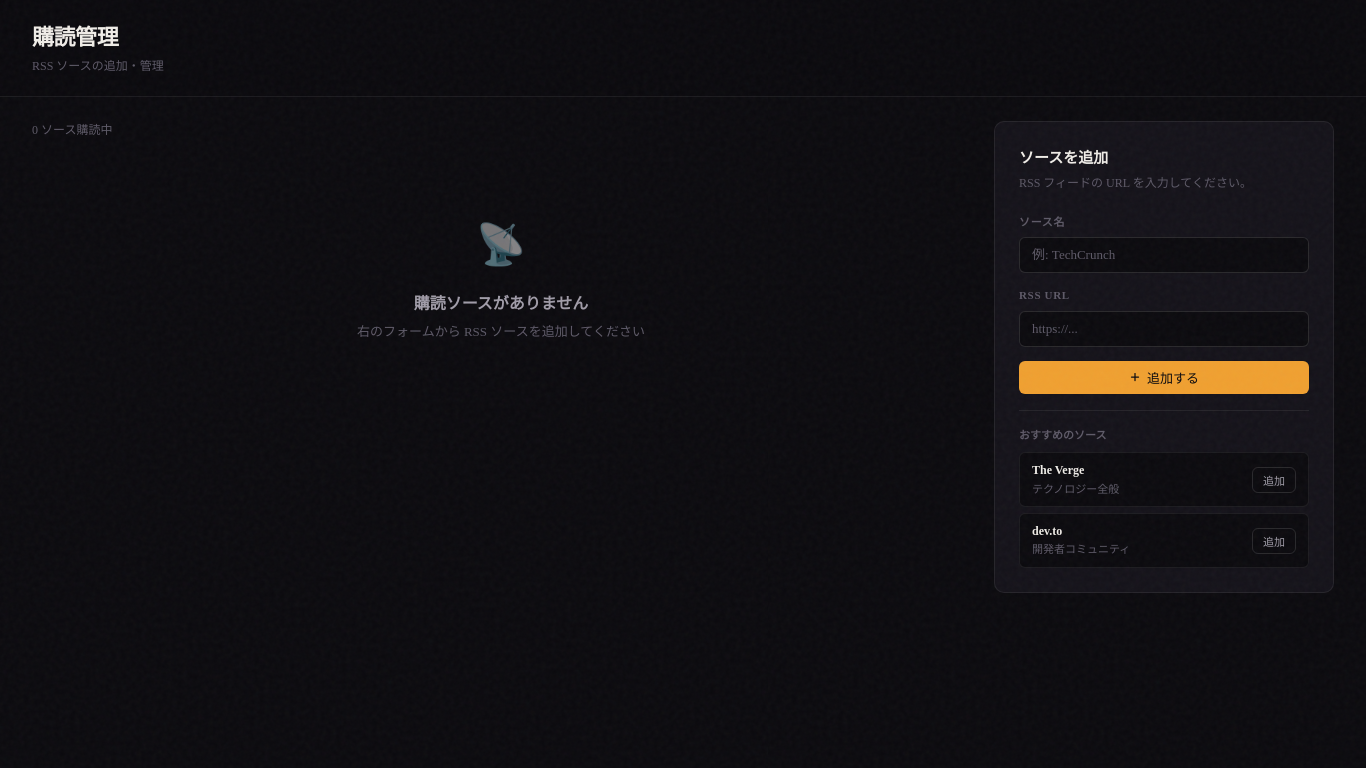
it: AddSubscriptionForm — client-side validation › Given URL not starting with http(s)://, shows inline error and does NOT submit
The width and height of the screenshot is (1366, 768).
Type "ftp://invalid.com" into the field labelled "RSS URL".
click(1164, 329); type("ftp://invalid.com")  # box [1019,311,1309,347]
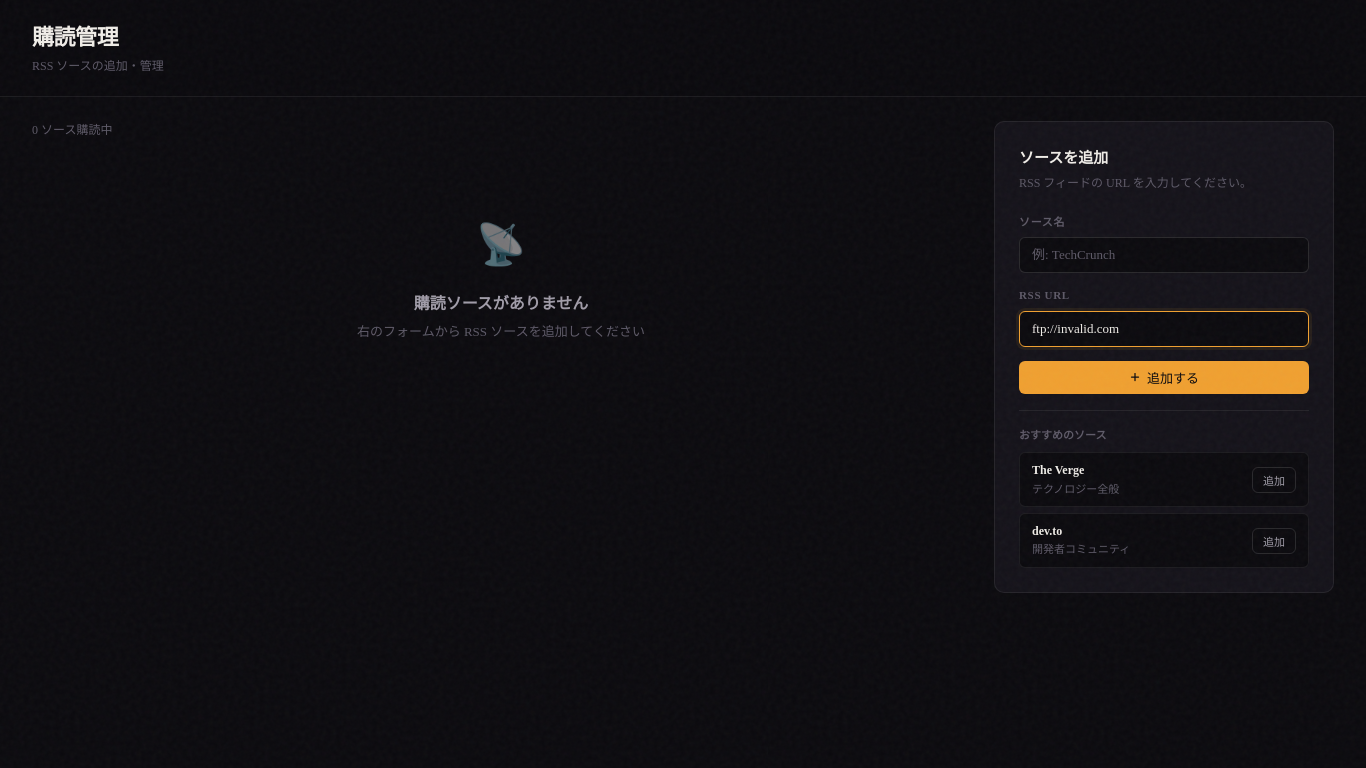
Click the button "追加する".
click(1164, 377)  # box [1019,361,1309,394]
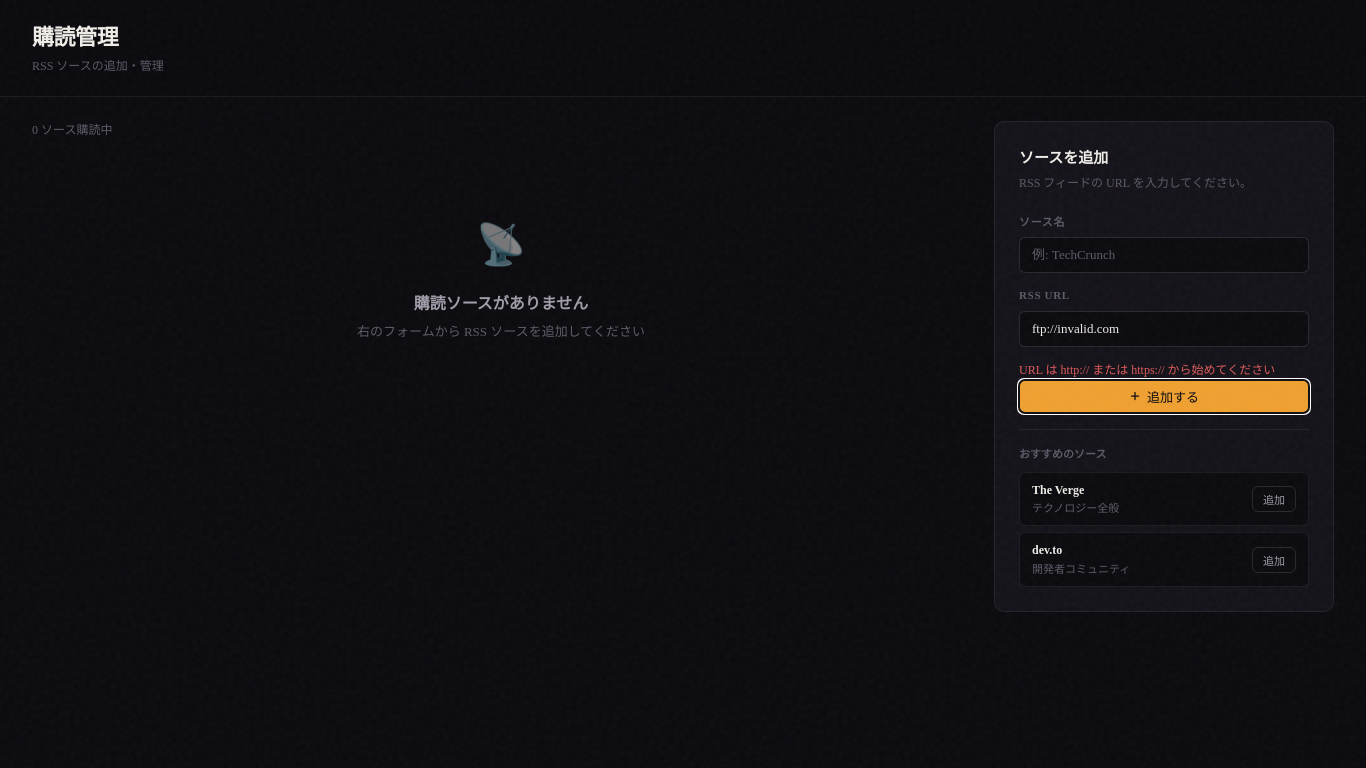
Expected: the text "URL は http:// または https:// から始めてください" is shown, [1019,361,1309,380]
